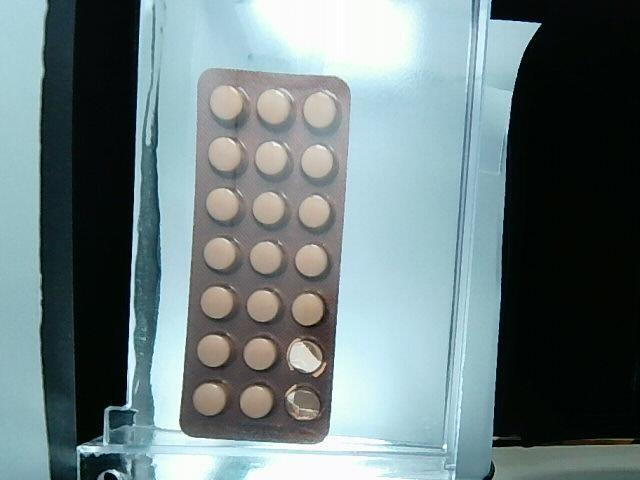Light Front: (180, 69, 350, 442)
No Pill Front: (286, 339, 327, 377), (285, 385, 321, 421)
Pill Front: (210, 85, 250, 125), (256, 89, 294, 128), (303, 90, 340, 130), (208, 136, 246, 174), (255, 140, 291, 178), (251, 191, 288, 227), (205, 188, 243, 223), (300, 144, 336, 180), (204, 236, 240, 271), (246, 289, 282, 323), (200, 285, 236, 319), (243, 336, 279, 370), (295, 244, 330, 278), (250, 241, 285, 275), (193, 383, 229, 416), (299, 195, 332, 229), (196, 335, 232, 366), (291, 293, 324, 326), (240, 385, 273, 418)
